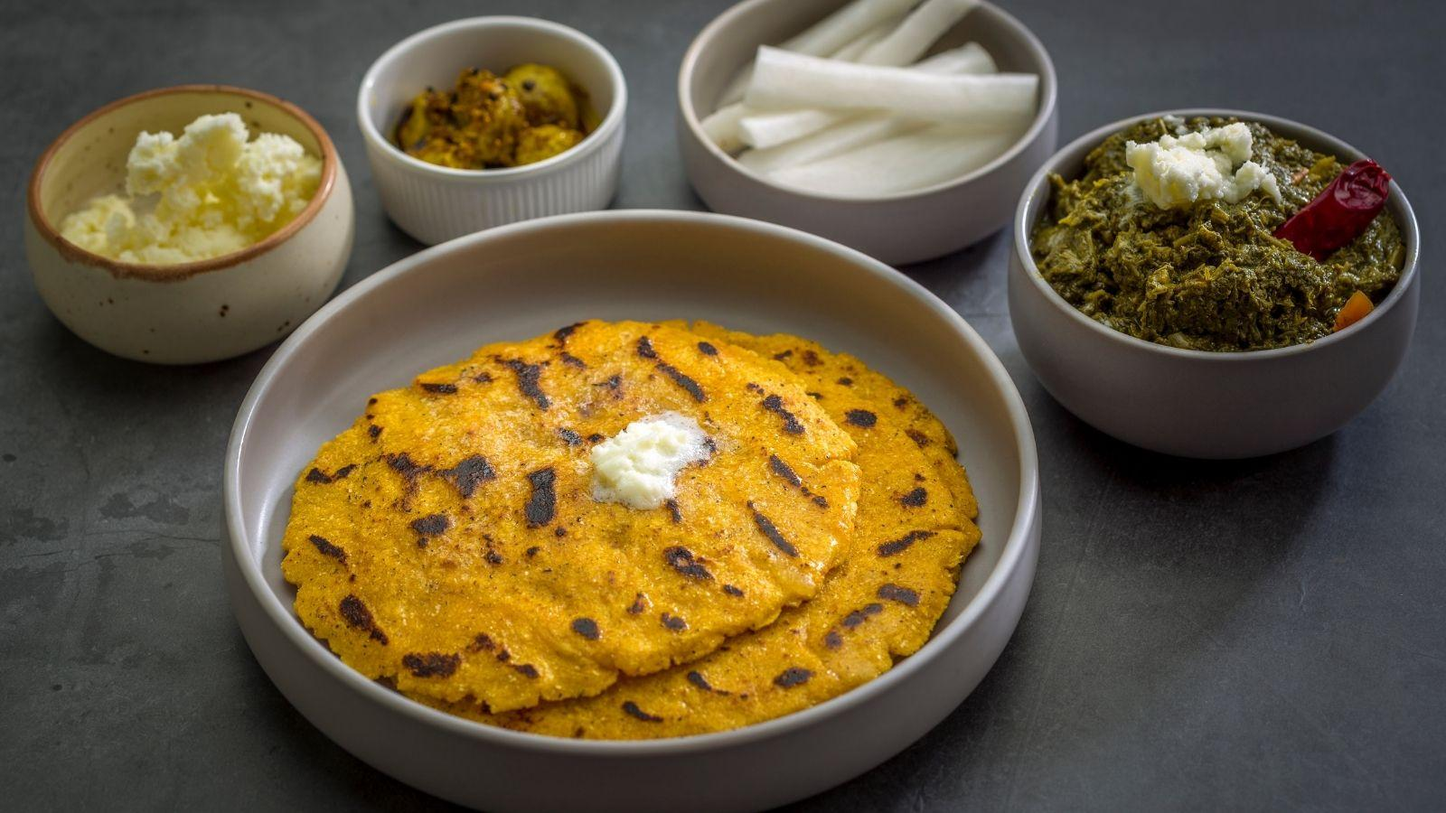saag: (1054, 121, 1415, 344)
